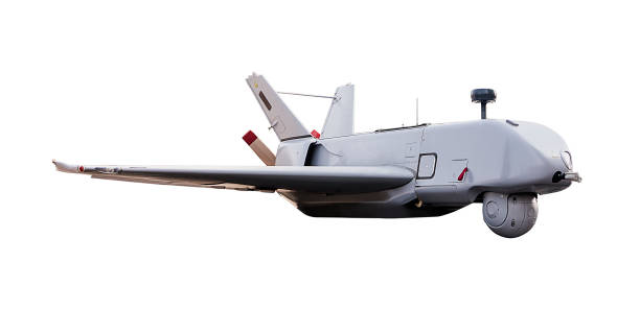military drone: (52, 71, 581, 238)
